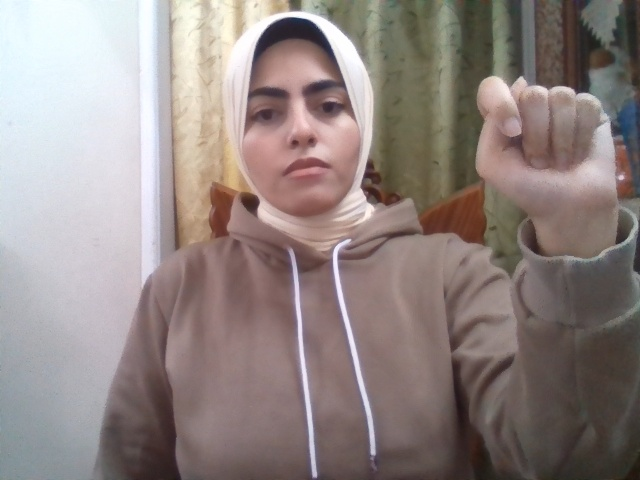T: (475, 76, 618, 217)
